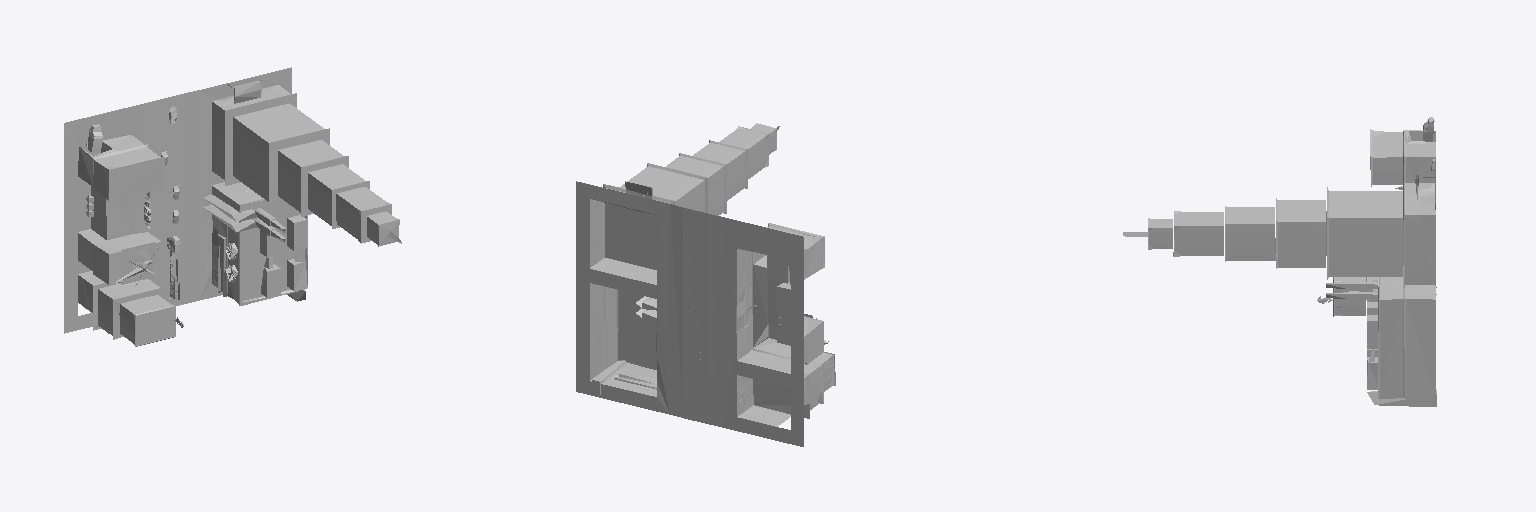
File: town_collision.obj
The picture shows the model from 3 angles: view 1: azimuth 30°, elevation 25°; view 2: azimuth 150°, elevation 25°; view 3: azimuth 270°, elevation 25°; orthographic projection.
Parts seen in each view (by area): view 1: Plane.002; view 2: Plane.002; view 3: Plane.002.
Boxes of the visible parts, box(x1,y1,x2,y2) form: Plane.002: box(64, 67, 401, 346); Plane.002: box(576, 123, 835, 446); Plane.002: box(1123, 117, 1436, 406).
Size of the model in its own units: 124 by 111 by 148.